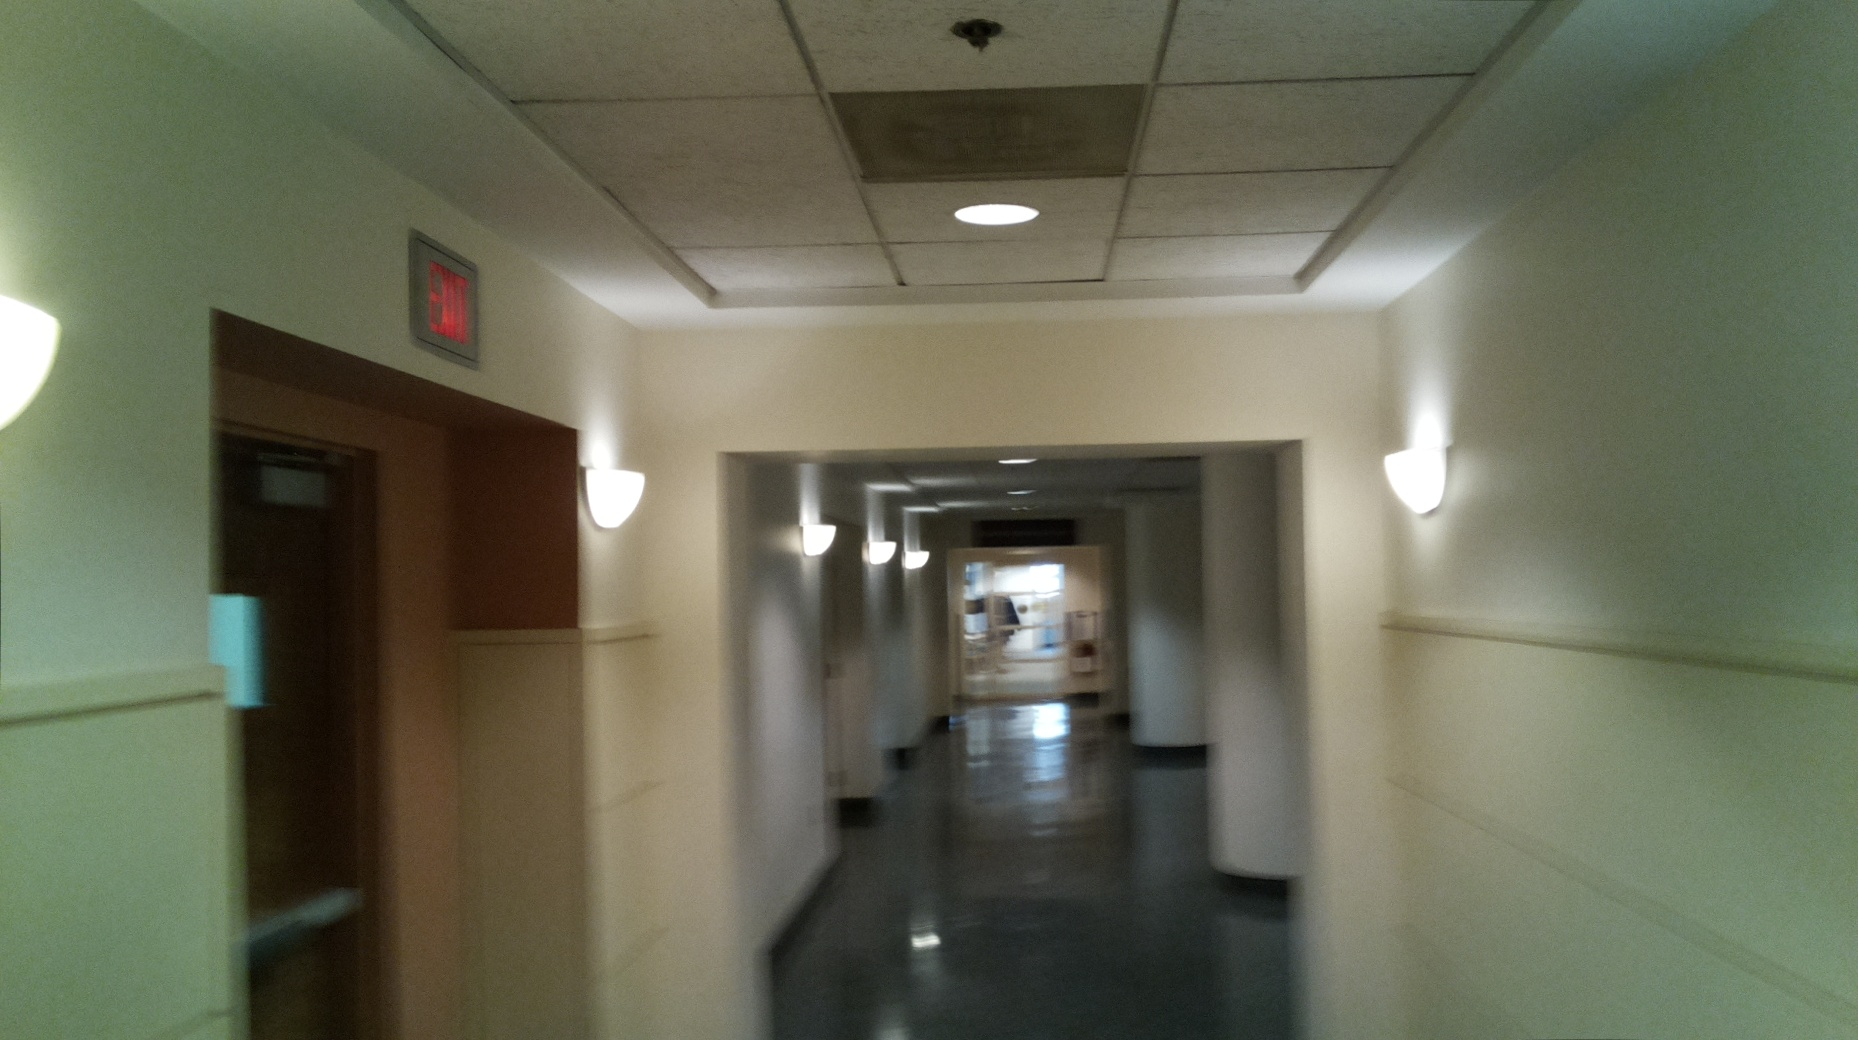exit sign: (399, 219, 491, 375)
